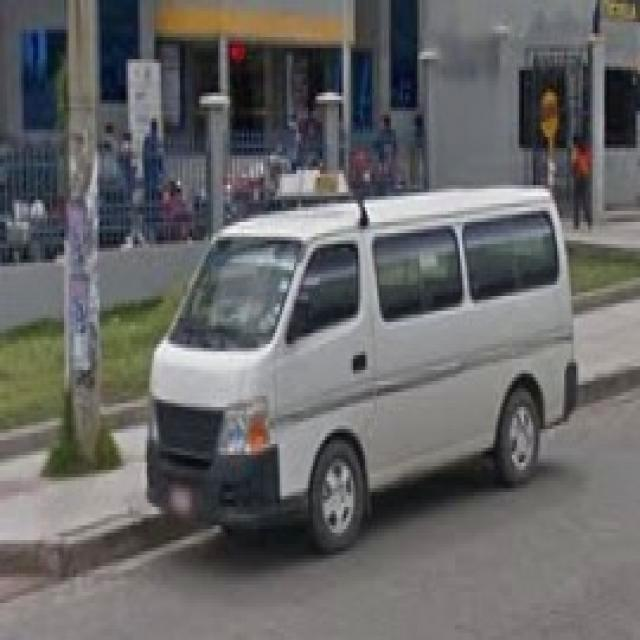Car: (140, 185, 584, 545)
